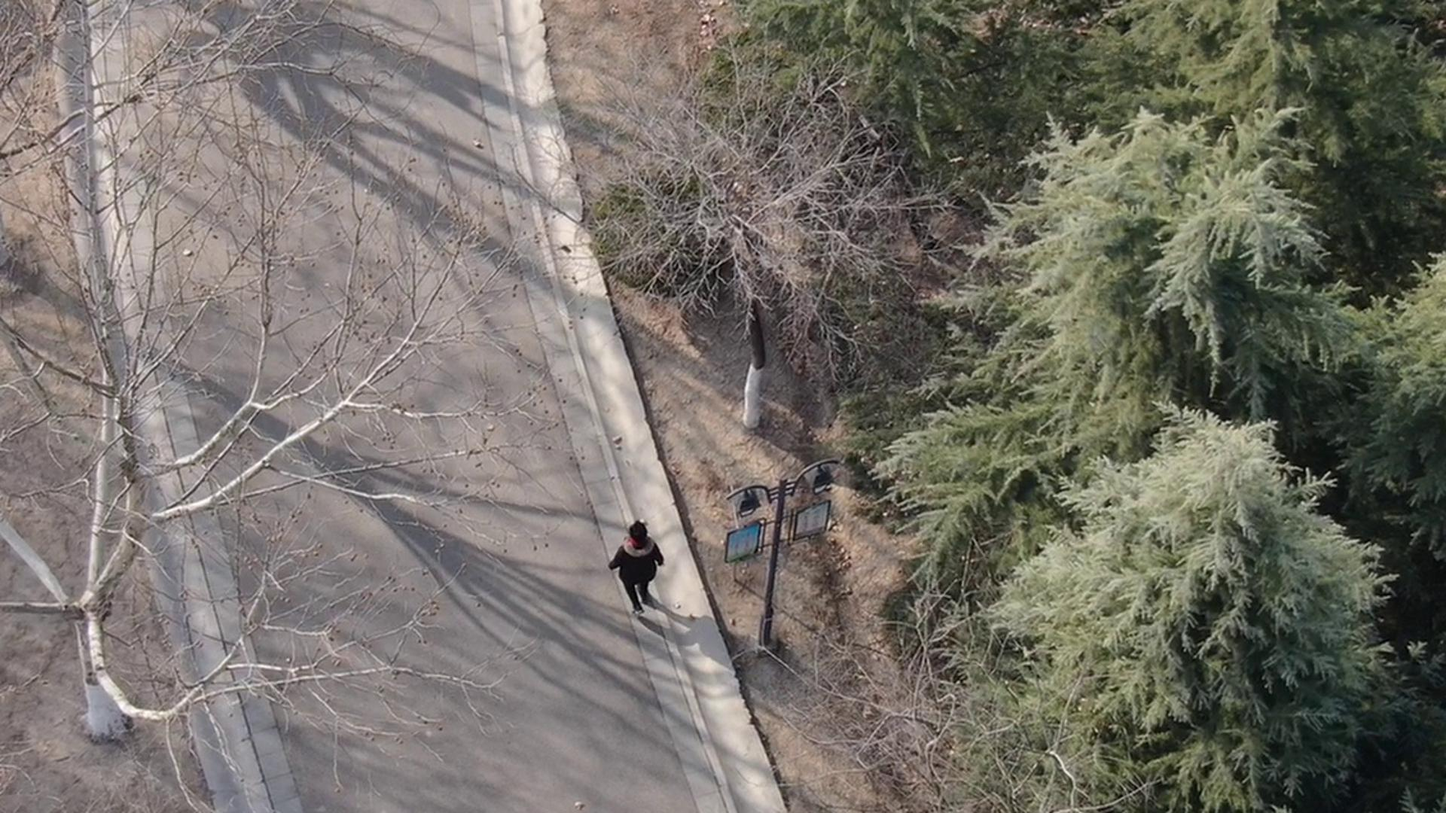human: (604, 529, 670, 635)
